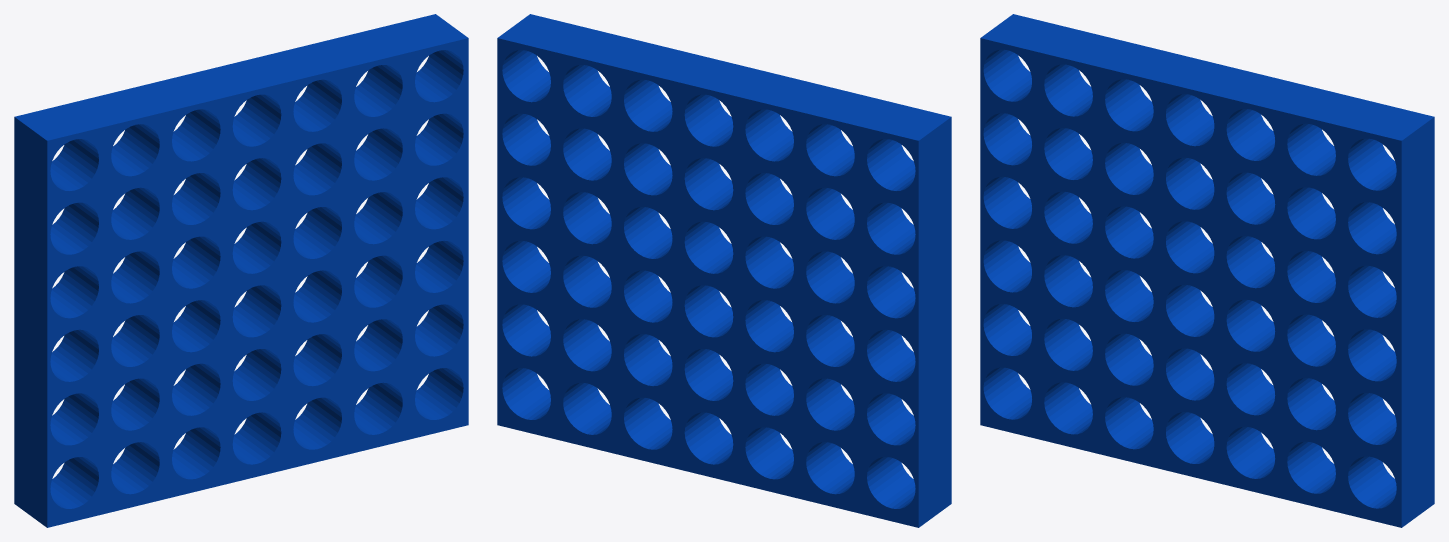
File: Board.glb
3 views of the same model, side by side, from view 1: azimuth 30°, elevation 25°; view 2: azimuth 150°, elevation 25°; view 3: azimuth 330°, elevation 25° (orthographic).
Visible parts, largest first — view 1: Cube; view 2: Cube; view 3: Cube.
Boxes of the visible parts, <box> form: Cube: <box>14,14,468,527</box>; Cube: <box>497,14,951,527</box>; Cube: <box>980,14,1434,527</box>.
Size of the model in its own units: 6.94 by 6.09 by 0.9372.
